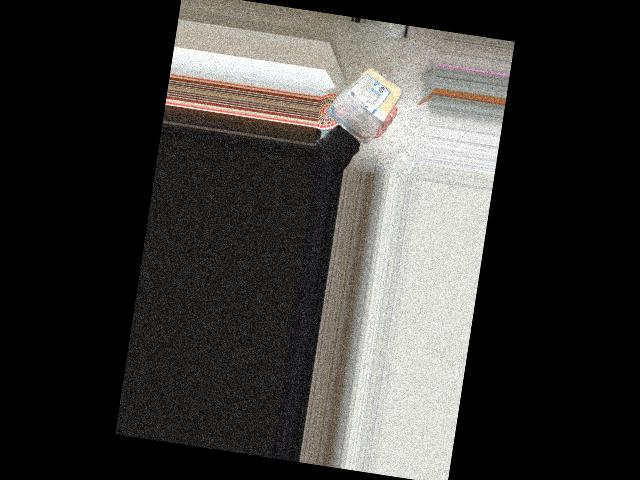cheese: (324, 57, 398, 142)
